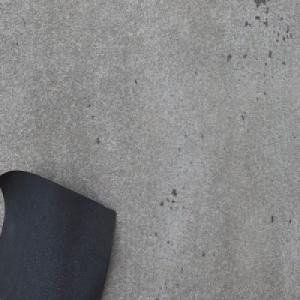PaintChip: (0, 168, 117, 300)
